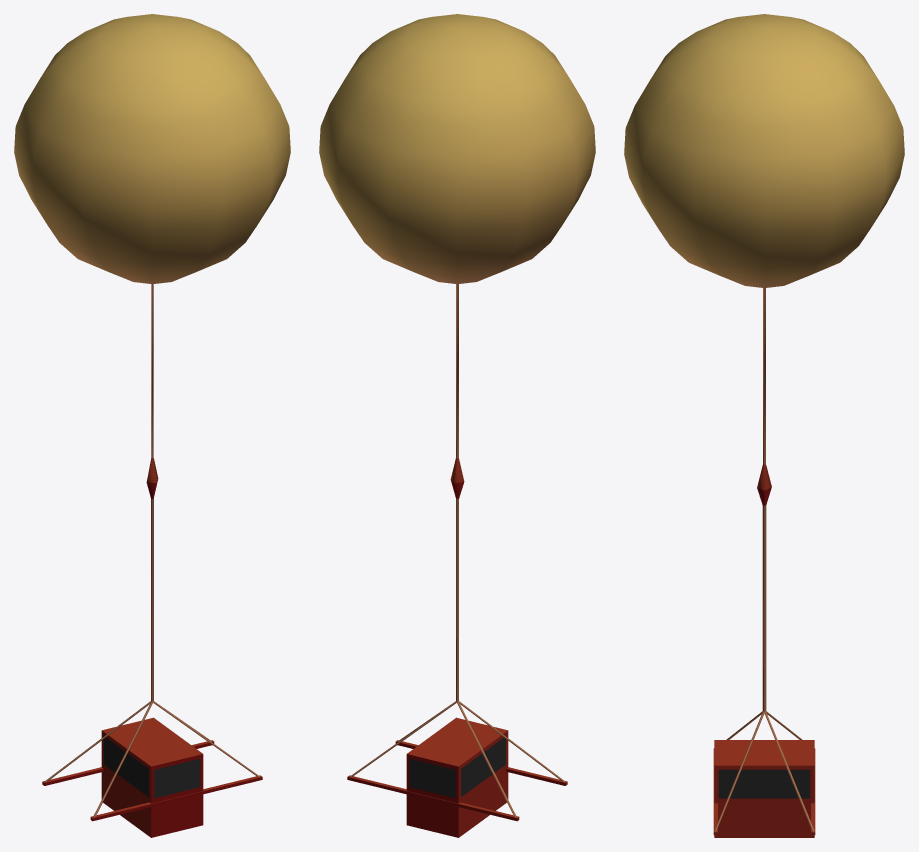
The picture shows the model from 3 angles, left to right: view 1: azimuth 30°, elevation 25°; view 2: azimuth 150°, elevation 25°; view 3: azimuth 270°, elevation 25°; orthographic projection.
Parts seen in each view (by area): view 1: WeatherBalloon_VFly; view 2: WeatherBalloon_VFly; view 3: WeatherBalloon_VFly.
Part boxes in pixels (box(x1,y1,x2,y2)): WeatherBalloon_VFly: box(14, 14, 290, 837); WeatherBalloon_VFly: box(319, 14, 595, 837); WeatherBalloon_VFly: box(624, 14, 904, 837).
Bounding box in the file's own units: 0.1594 × 0.5 × 0.1594.
